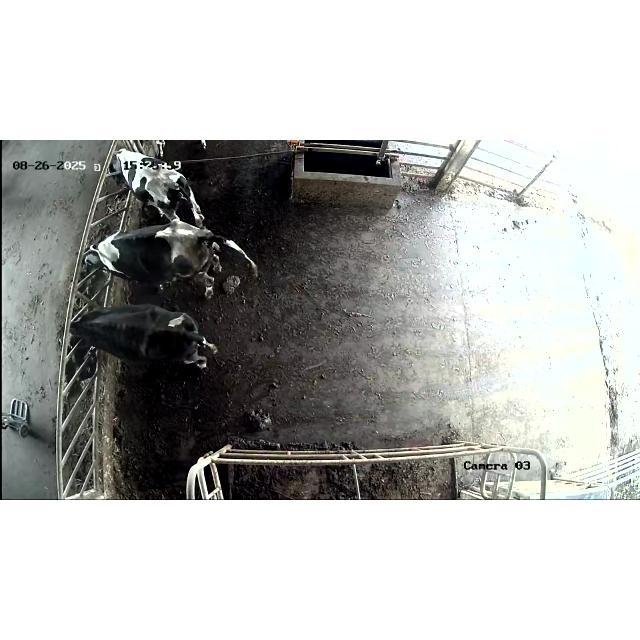eat: (58, 231, 134, 283), (81, 143, 149, 201), (44, 306, 122, 354)
